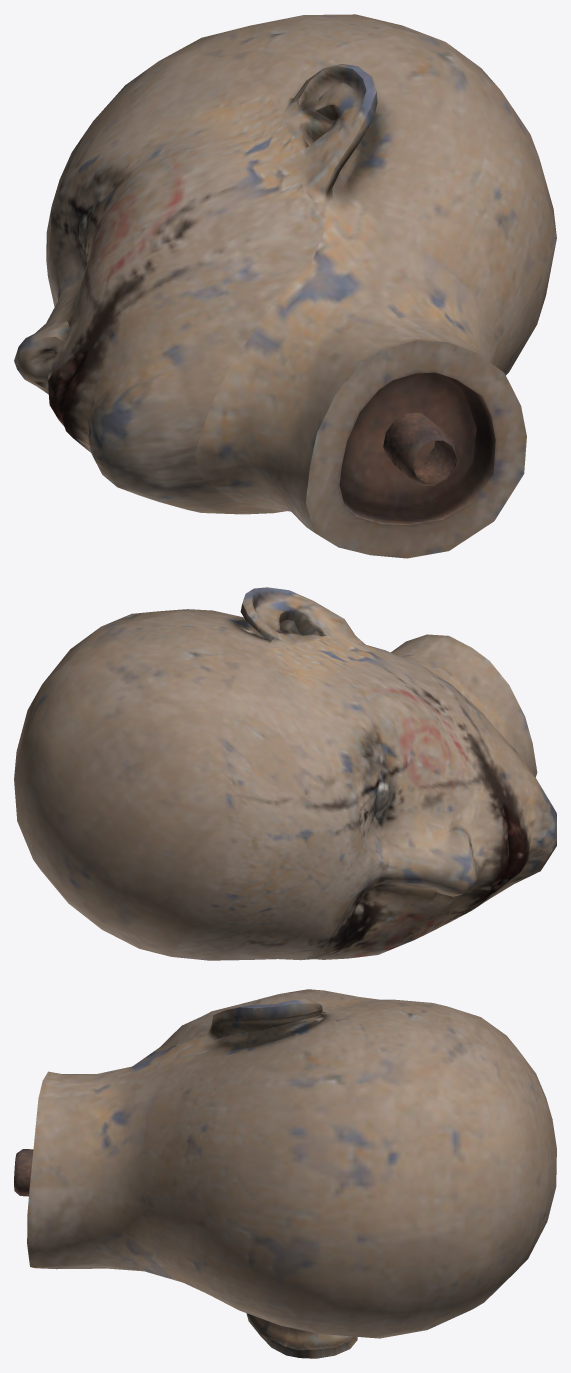
File: head.fbx
The picture shows the model from 3 angles, top to bottom: view 1: azimuth 30°, elevation 25°; view 2: azimuth 150°, elevation 25°; view 3: azimuth 270°, elevation 25°; orthographic projection. The views are drawn at different scales.
Visible parts, largest first — view 1: Object_2.003; view 2: Object_2.003; view 3: Object_2.003.
Part boxes in pixels (bbox=[...]): Object_2.003: bbox=[14, 14, 556, 558]; Object_2.003: bbox=[14, 587, 556, 960]; Object_2.003: bbox=[14, 989, 556, 1358].
Bounding box in the file's own units: 31.37 × 23.26 × 34.2.
Materials: 1 (1 with a texture image).
